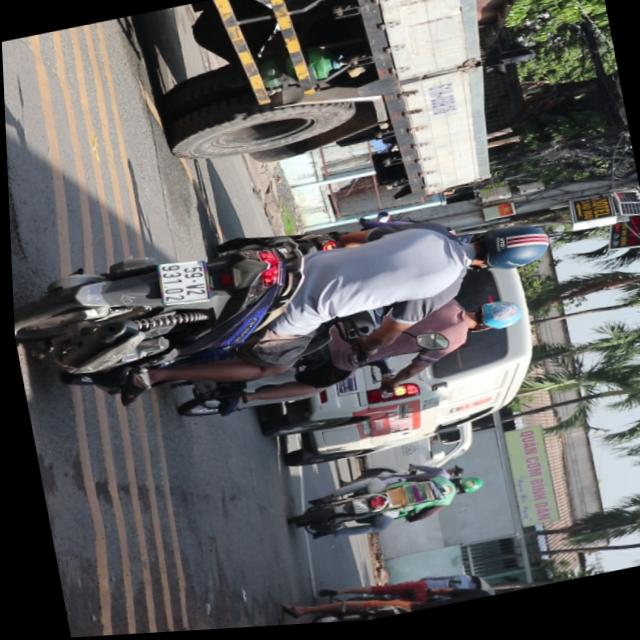helmet: (460, 220, 555, 284), (461, 301, 520, 342), (449, 477, 481, 501)
licenseplate: (7, 173, 566, 428), (149, 288, 529, 436), (281, 456, 488, 552)
nohelmet: (153, 258, 209, 309), (348, 500, 364, 518)
